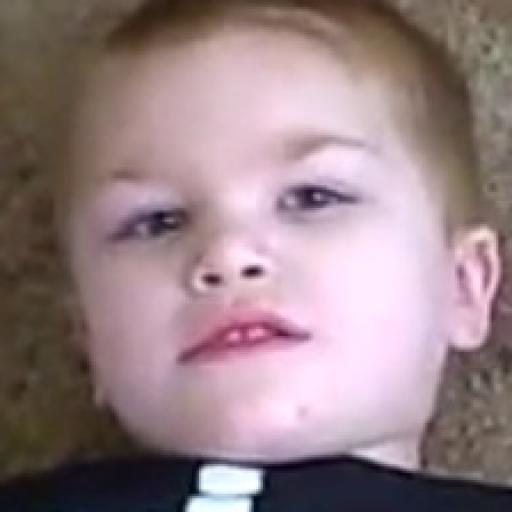Autism: (34, 0, 512, 462)
